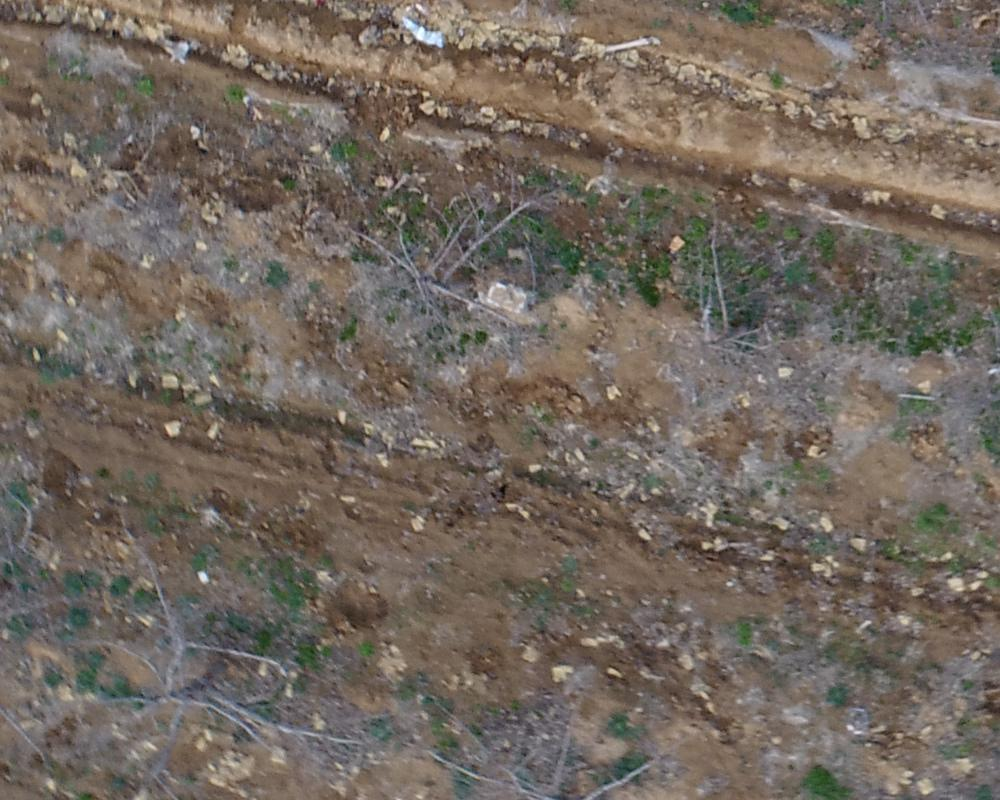apple: (89, 510, 344, 790), (328, 161, 558, 368), (660, 212, 795, 386), (409, 701, 667, 790)
